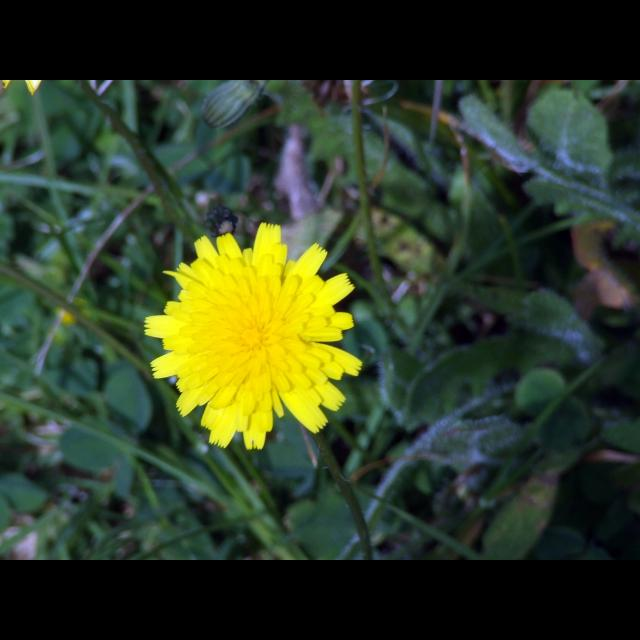Flower: (142, 221, 364, 444), (52, 298, 90, 326)
